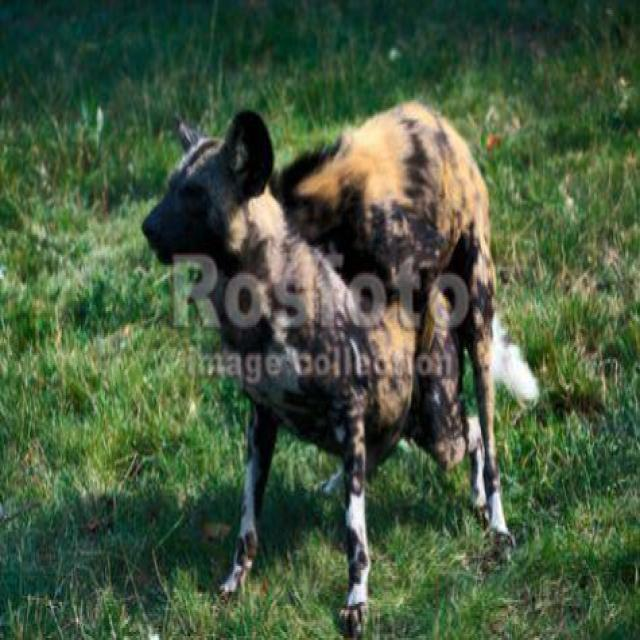dog: (126, 44, 576, 634)
